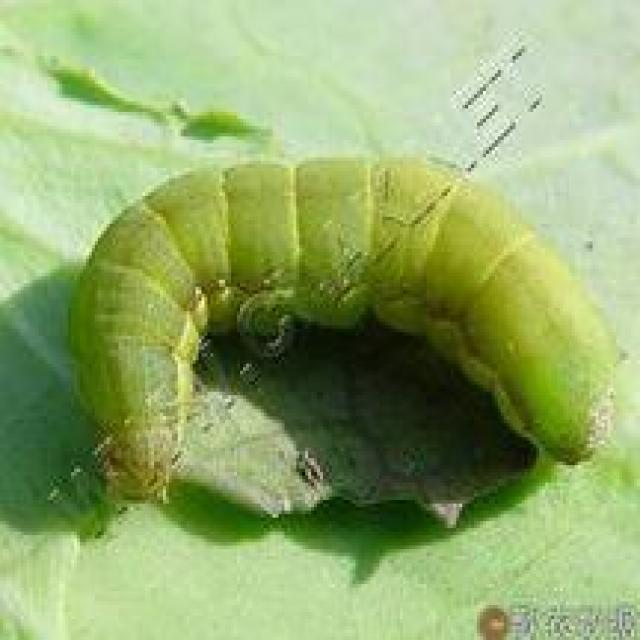BeetArmyWorm-Larva-: (59, 151, 626, 510)
